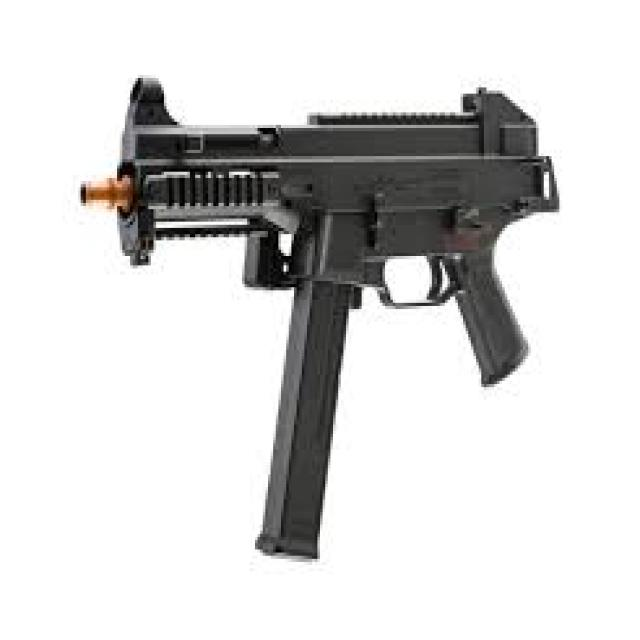Gun: (91, 57, 563, 573)
